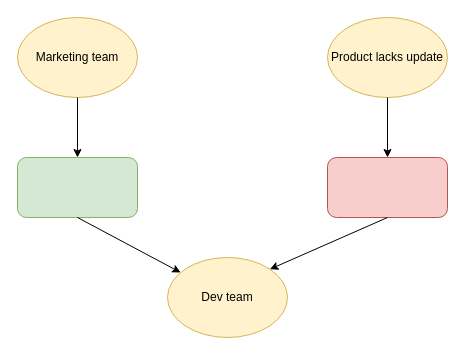
The diagram is 465 pixels wide and 355 high, and some of its shapes have lost their labels. Here are the shapes that lost their labels. From the top down, the centre of each, then its label:
At point 77,187: "New functionality".
At point 387,187: "Loss of clients".
